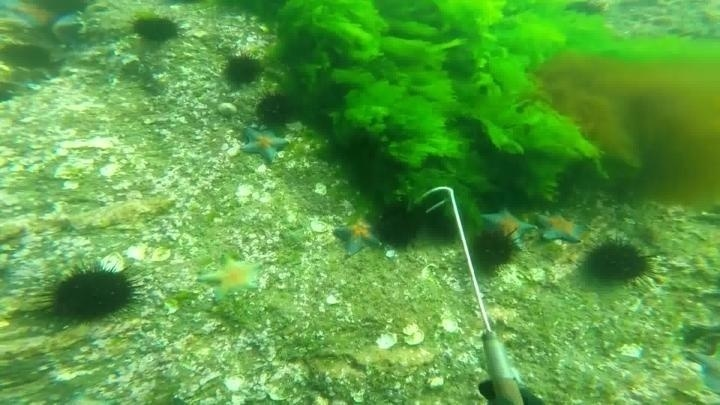echinus: (34, 262, 142, 327), (579, 236, 659, 290), (373, 200, 424, 251), (467, 228, 518, 273), (130, 12, 184, 47), (3, 41, 54, 74), (254, 90, 297, 129), (220, 51, 264, 89), (475, 377, 503, 403)
holothurian: (476, 331, 531, 404)
starfish: (197, 250, 263, 304), (4, 1, 87, 37), (331, 213, 384, 258), (480, 206, 535, 246), (238, 123, 290, 165), (534, 209, 587, 246), (686, 343, 720, 398)
